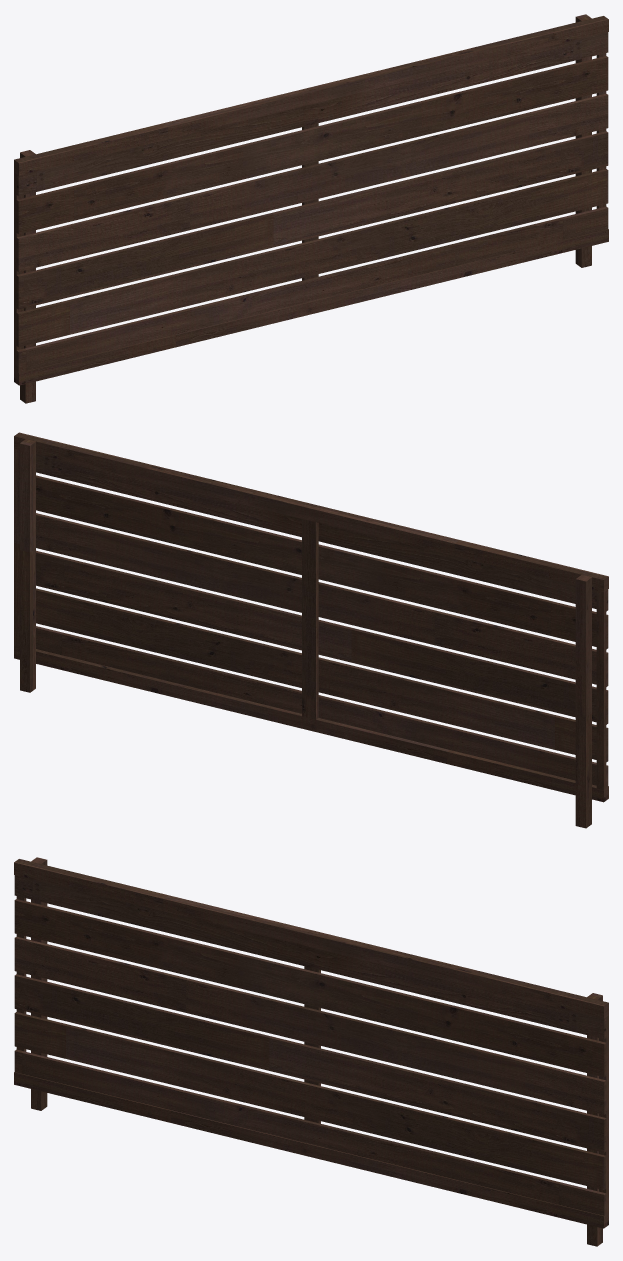
File: everartfencekabenashi_720-1998_darkpine.fbx
3 renders of one model, top to bottom at view 1: azimuth 30°, elevation 25°; view 2: azimuth 150°, elevation 25°; view 3: azimuth 330°, elevation 25°, orthographic.
Parts seen in each view (by area): view 1: everartfencekabenashi_720-1998_darkpine; view 2: everartfencekabenashi_720-1998_darkpine; view 3: everartfencekabenashi_720-1998_darkpine.
Boxes of the visible parts, left/top/right/bottom form: everartfencekabenashi_720-1998_darkpine: left=14, top=14, right=608, bottom=403; everartfencekabenashi_720-1998_darkpine: left=14, top=432, right=608, bottom=828; everartfencekabenashi_720-1998_darkpine: left=14, top=857, right=608, bottom=1246.
Size of the model in its own units: 200 by 80 by 6.5.
Materials: 1 (1 with a texture image).
